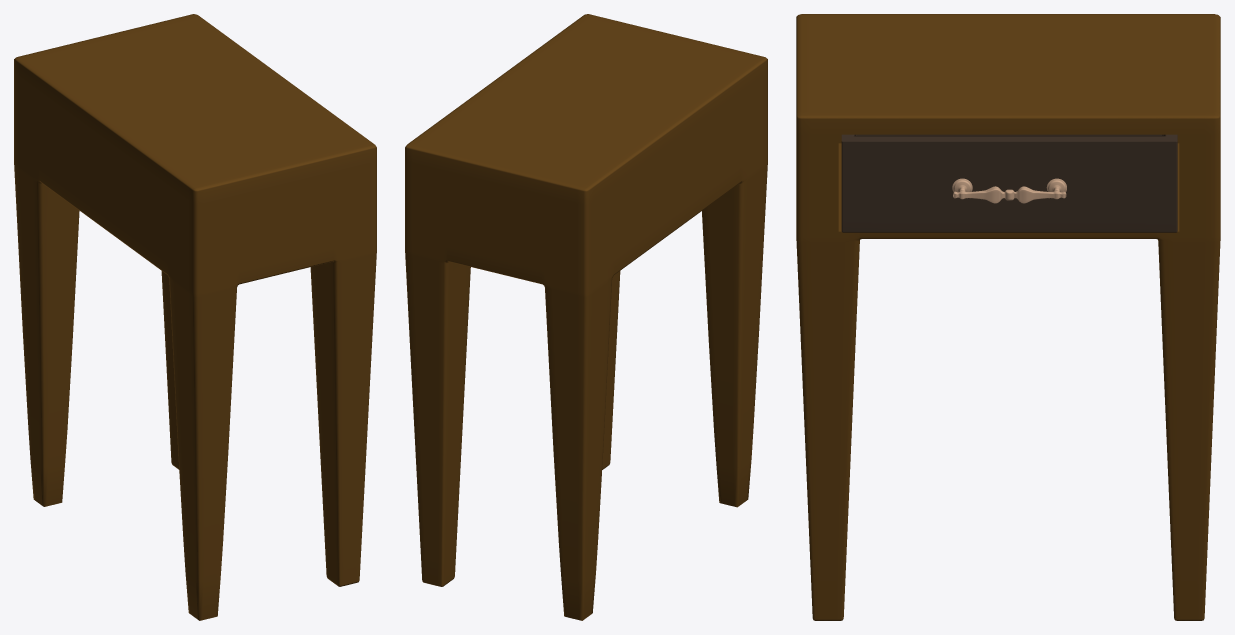
The model's file is NightStand.fbx.
3 views of the same model, side by side, from view 1: azimuth 30°, elevation 25°; view 2: azimuth 150°, elevation 25°; view 3: azimuth 270°, elevation 25° (orthographic). The views are drawn at different scales.
Parts seen in each view (by area): view 1: NightStand_Handle3; view 2: NightStand_Handle3; view 3: NightStand_Handle3.
Boxes of the visible parts, x1,y1,x2,y2 form: NightStand_Handle3: (14,14,376,620); NightStand_Handle3: (405,14,767,620); NightStand_Handle3: (796,14,1220,620).
Size of the model in its own units: 3.4 by 6.96 by 5.23.
